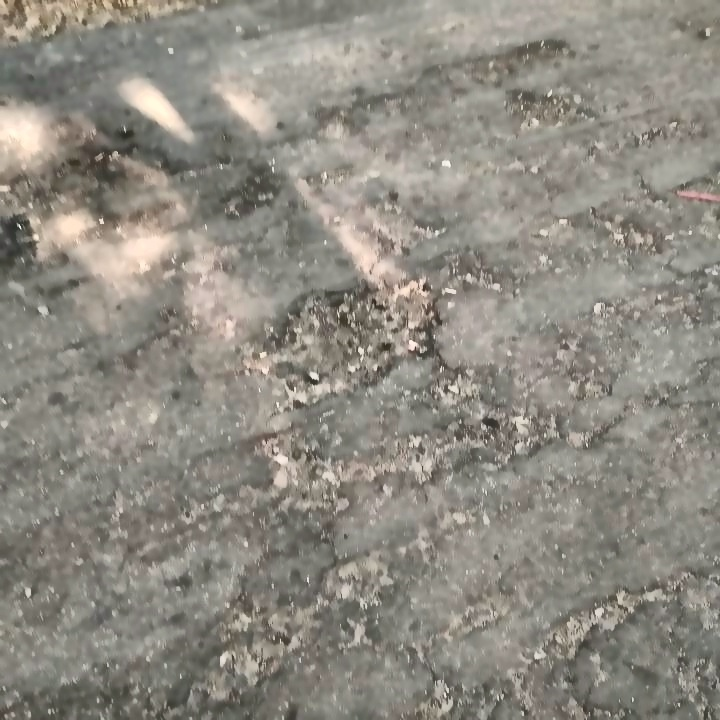pothole: (238, 268, 452, 408)
